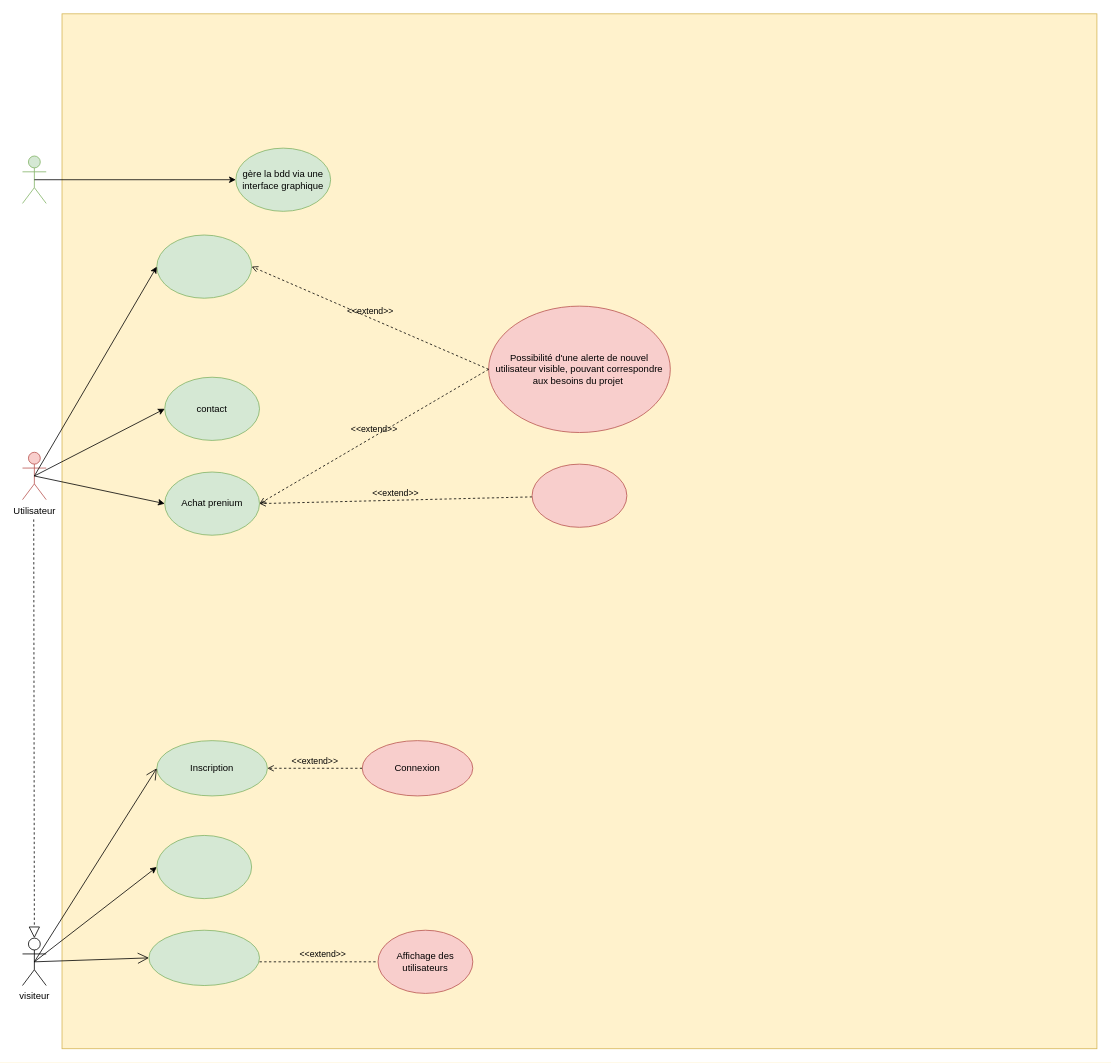
Image size: 1111x1063. Some labels were removed from this diagram. Each missing label, with the centre of its shape:
Admin: (x=34, y=179)
Consulter les informations des Connectings days: (x=204, y=867)
Création d'une fiche "projet": (x=204, y=266)
Recherche par critère: (x=204, y=957)
être visible: (x=579, y=495)
